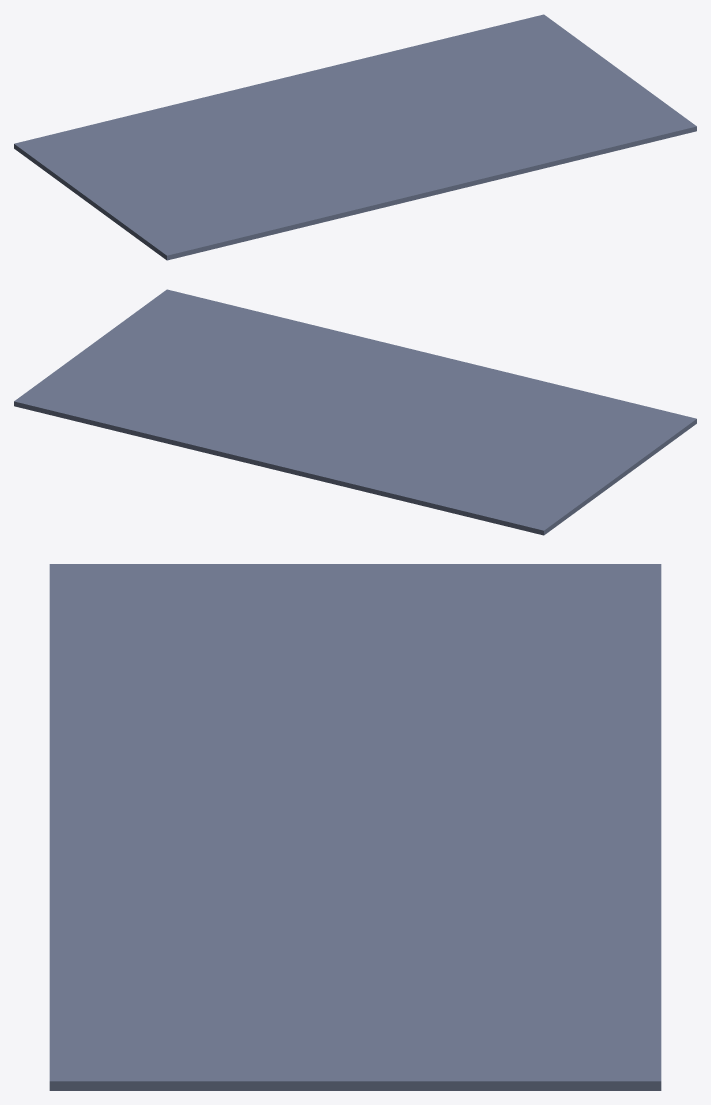
The model's file is techo_comedor.glb.
3 views of the same model, one above another, from view 1: azimuth 30°, elevation 25°; view 2: azimuth 150°, elevation 25°; view 3: azimuth 270°, elevation 25° (orthographic). The views are drawn at different scales.
Parts seen in each view (by area): view 1: techo_comedor; view 2: techo_comedor; view 3: techo_comedor.
Part boxes in pixels (x1=…): techo_comedor: x1=14, y1=14, x2=696, y2=260; techo_comedor: x1=14, y1=289, x2=696, y2=535; techo_comedor: x1=49, y1=564, x2=661, y2=1090.
Size of the model in its own units: 40 by 0.445 by 20.
